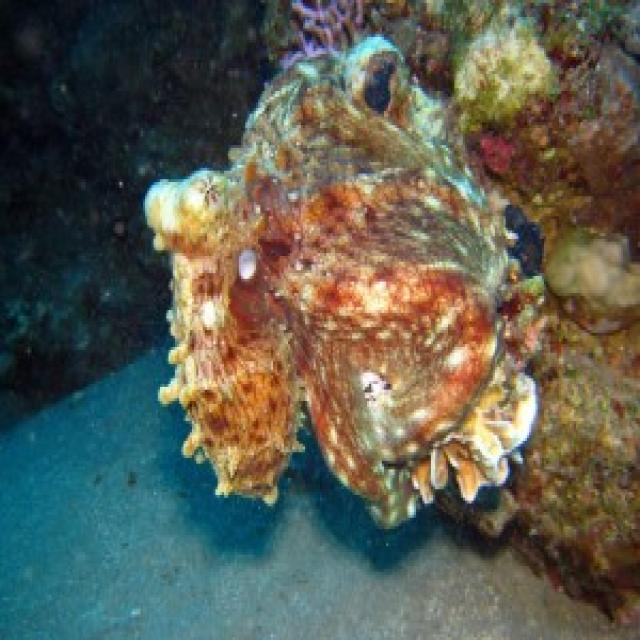Octo: (148, 48, 571, 502)
